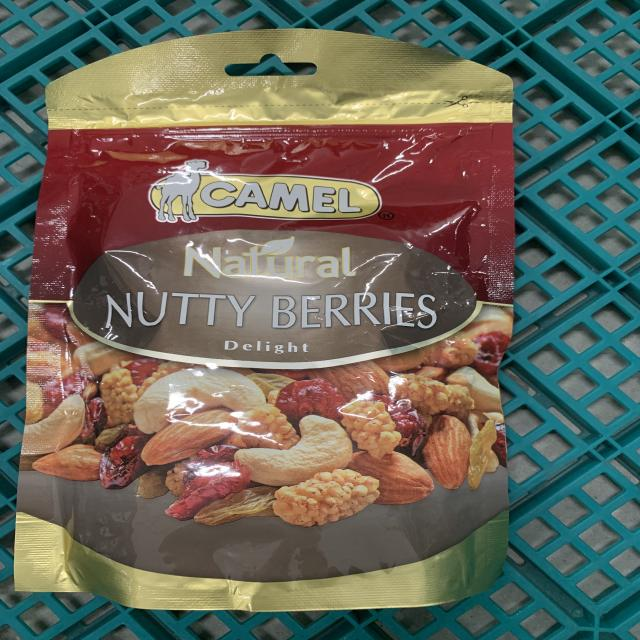object_name: (47, 55, 495, 601)
